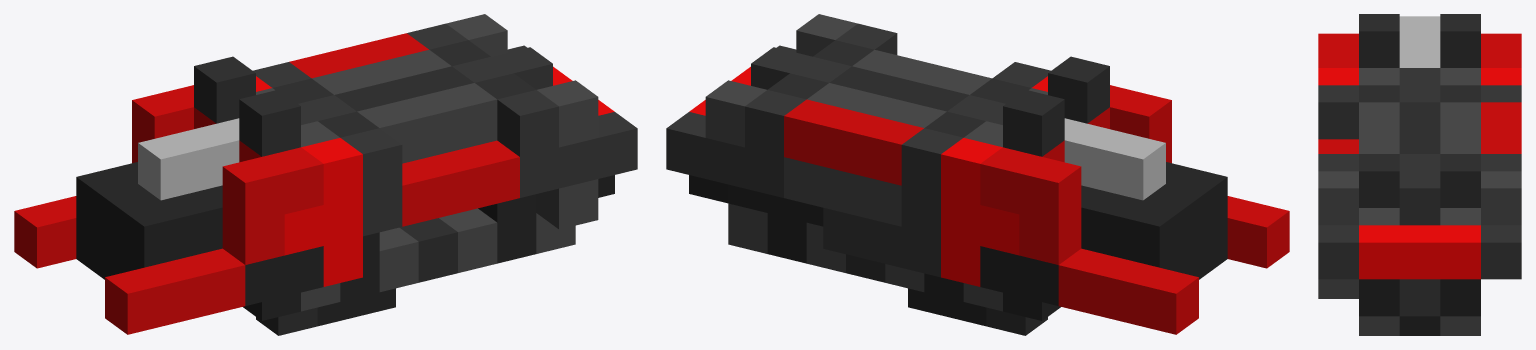
The model's file is rocketlauncher.obj.
3 views of the same model, side by side, from view 1: azimuth 30°, elevation 25°; view 2: azimuth 150°, elevation 25°; view 3: azimuth 270°, elevation 25° (orthographic). The views are drawn at different scales.
Bounding box in the file's own units: 1.3 × 0.6 × 0.5.
1 material, 1 textured.
